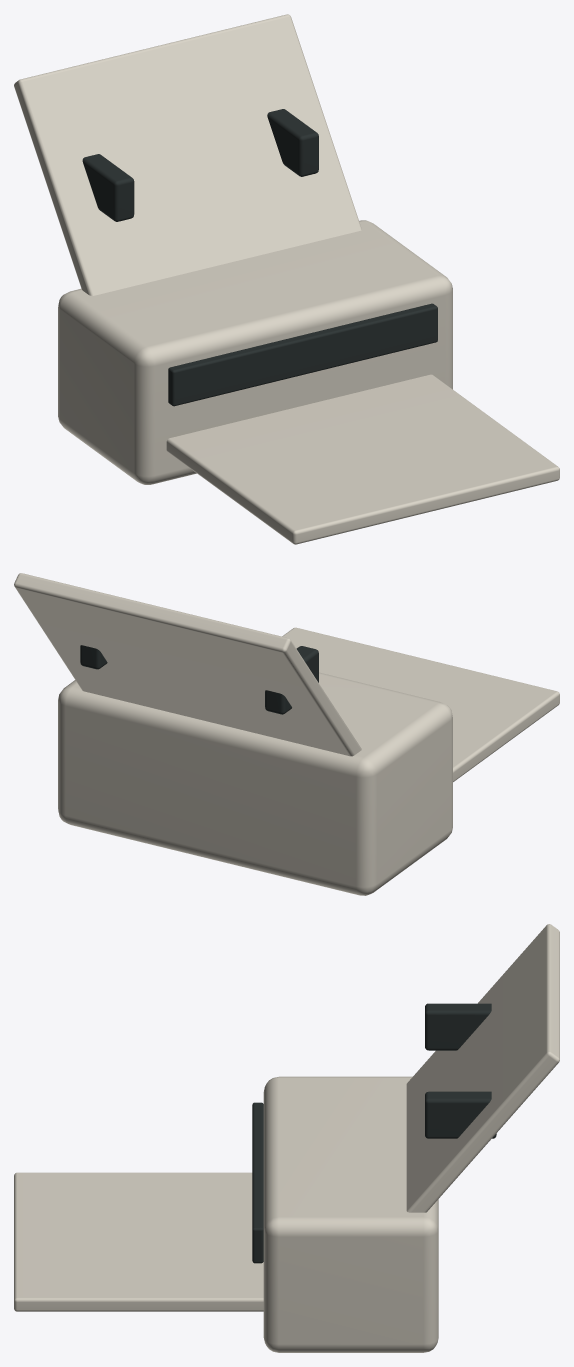
The model's file is investigation-document-scanner.glb.
3 renders of one model, top to bottom at view 1: azimuth 30°, elevation 25°; view 2: azimuth 150°, elevation 25°; view 3: azimuth 270°, elevation 25°, orthographic. The views are drawn at different scales.
Visible parts, largest first — view 1: Inclined input tray, Scanner mechanism, Fold-out output tray, Sheet roller throat, Sliding sheet guide, Sliding sheet guide.001; view 2: Scanner mechanism, Inclined input tray, Fold-out output tray, Sliding sheet guide, Sliding sheet guide.001; view 3: Scanner mechanism, Fold-out output tray, Inclined input tray, Sliding sheet guide.001, Sliding sheet guide, Sheet roller throat.
Boxes of the visible parts, box(x1,y1,x2,y2) form: Inclined input tray: box(14, 14, 361, 295); Scanner mechanism: box(58, 220, 452, 484); Fold-out output tray: box(166, 374, 559, 544); Sheet roller throat: box(168, 303, 437, 406); Sliding sheet guide: box(82, 154, 134, 221); Sliding sheet guide.001: box(267, 109, 318, 176); Scanner mechanism: box(58, 672, 452, 895); Inclined input tray: box(14, 573, 361, 756); Fold-out output tray: box(282, 627, 559, 781); Sliding sheet guide: box(265, 646, 318, 714); Sliding sheet guide.001: box(80, 645, 107, 669); Scanner mechanism: box(263, 1076, 438, 1352); Fold-out output tray: box(14, 1172, 263, 1311); Inclined input tray: box(406, 924, 559, 1212); Sliding sheet guide.001: box(425, 1091, 496, 1138); Sliding sheet guide: box(425, 1003, 491, 1050); Sheet roller throat: box(252, 1102, 263, 1263).
Size of the model in its own units: 0.285 by 0.2579 by 0.4339.
Materials: 3 (3 with a texture image).
